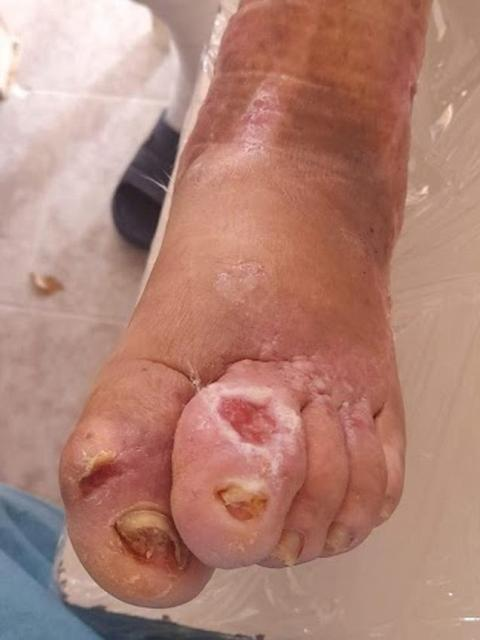wound: (212, 386, 295, 458), (77, 441, 135, 500)
